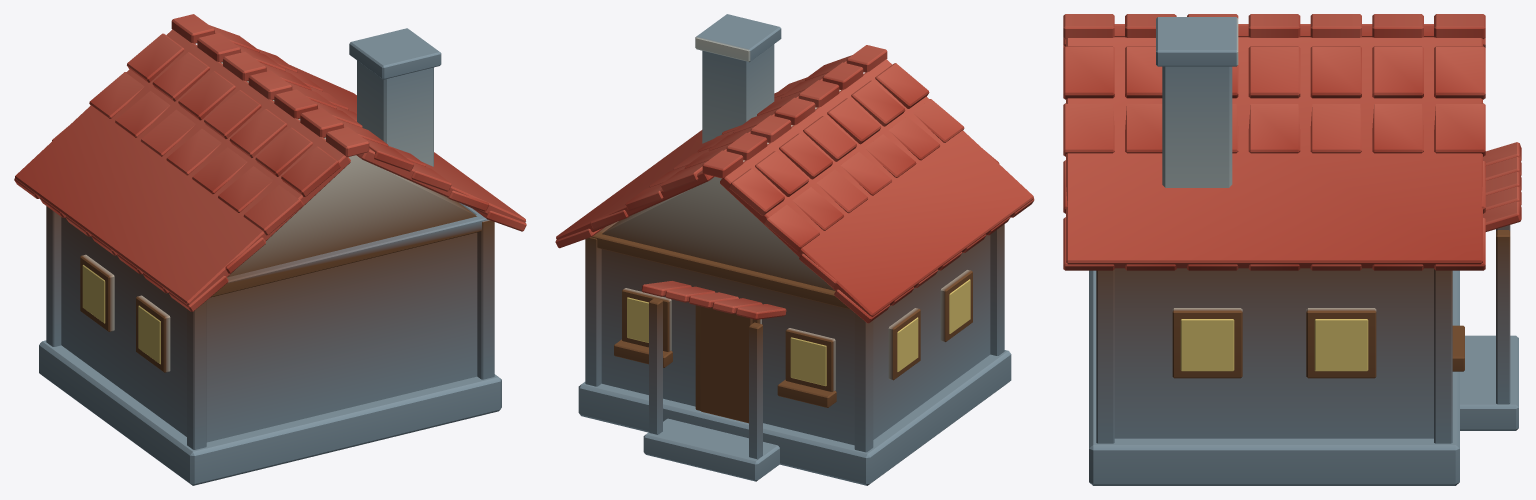
Rendered from cottage.glb.
3 renders of one model, left to right at view 1: azimuth 30°, elevation 25°; view 2: azimuth 150°, elevation 25°; view 3: azimuth 270°, elevation 25°, orthographic. The views are drawn at different scales.
Visible parts, largest first — view 1: CottageBase, CottageRoof; view 2: CottageBase, CottageRoof; view 3: CottageBase, CottageRoof.
Boxes of the visible parts, left/top/right/bottom form: CottageBase: left=39, top=28, right=501, bottom=485; CottageRoof: left=14, top=14, right=526, bottom=311; CottageBase: left=578, top=14, right=1011, bottom=485; CottageRoof: left=555, top=45, right=1034, bottom=323; CottageBase: left=1089, top=17, right=1518, bottom=485; CottageRoof: left=1063, top=14, right=1521, bottom=270.
Size of the model in its own units: 4.57 by 4.47 by 4.45.
